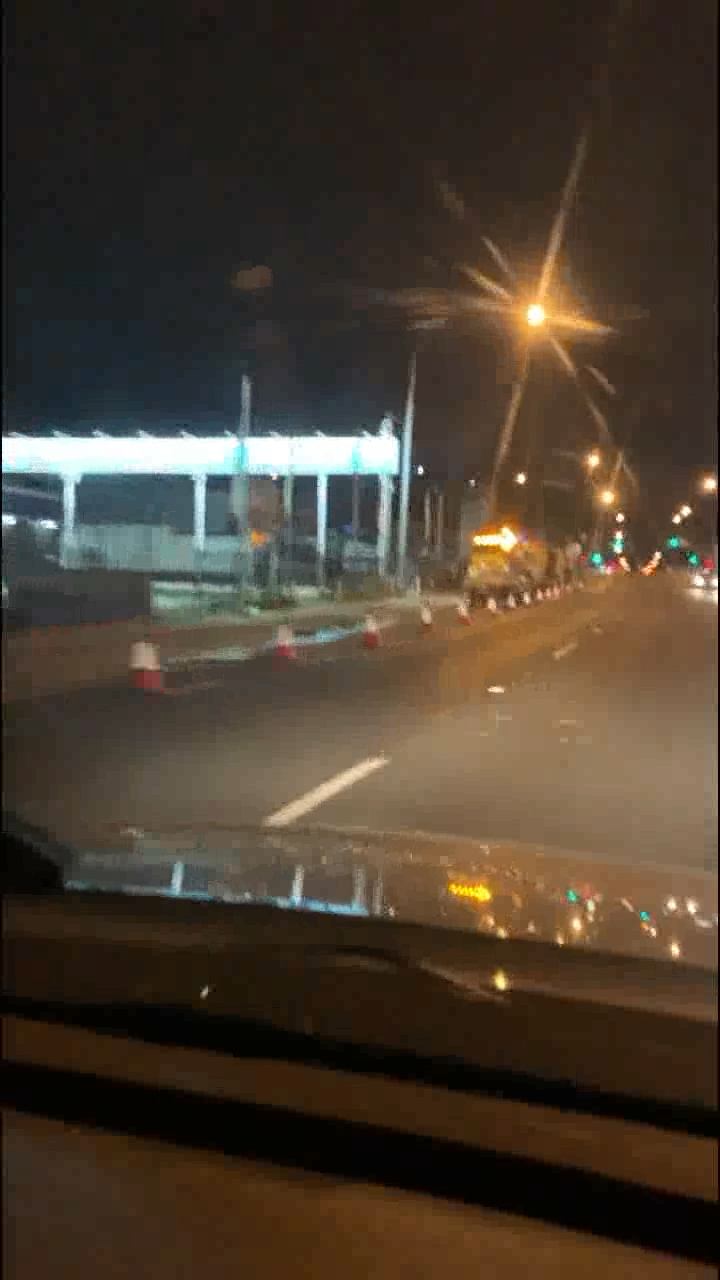road cone: (120, 630, 165, 697), (260, 612, 305, 679), (343, 604, 388, 671), (410, 585, 455, 652), (468, 593, 513, 660)
truck: (458, 527, 560, 590)
